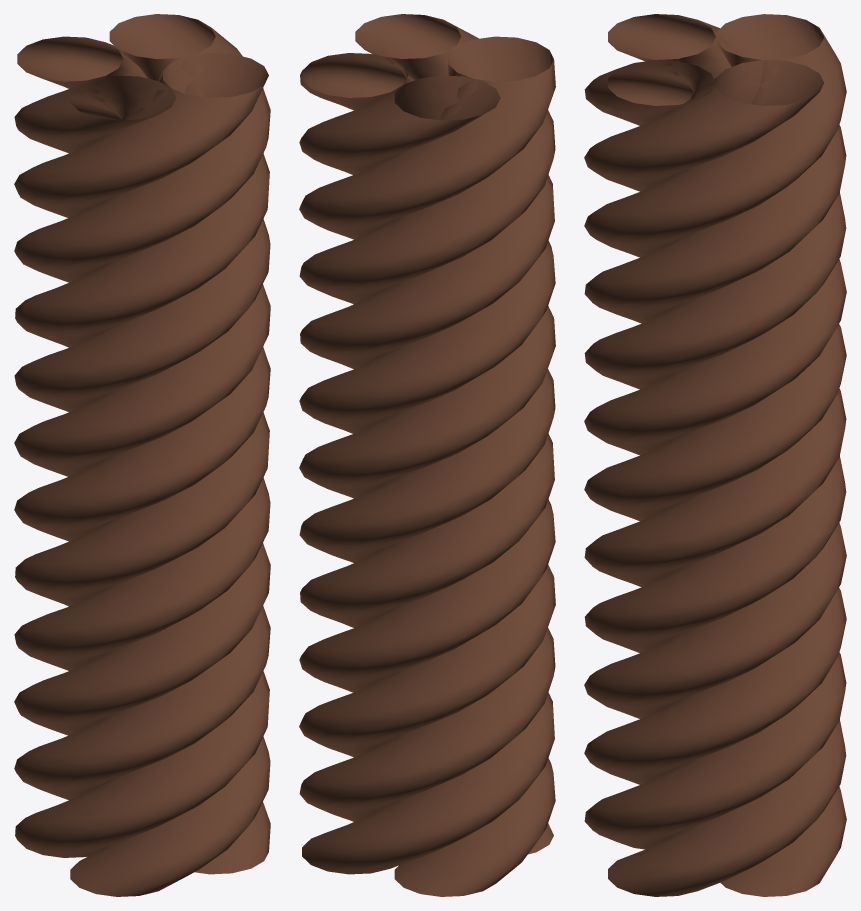
File: Tronc.fbx
3 views of the same model, side by side, from view 1: azimuth 30°, elevation 25°; view 2: azimuth 150°, elevation 25°; view 3: azimuth 270°, elevation 25° (orthographic).
Visible parts, largest first — view 1: Cercle; view 2: Cercle; view 3: Cercle.
Part boxes in pixels (x1,y1,x2,y2): Cercle: (14,14,270,896); Cercle: (299,14,555,896); Cercle: (584,14,846,896).
Size of the model in its own units: 687 by 2283 by 687.
